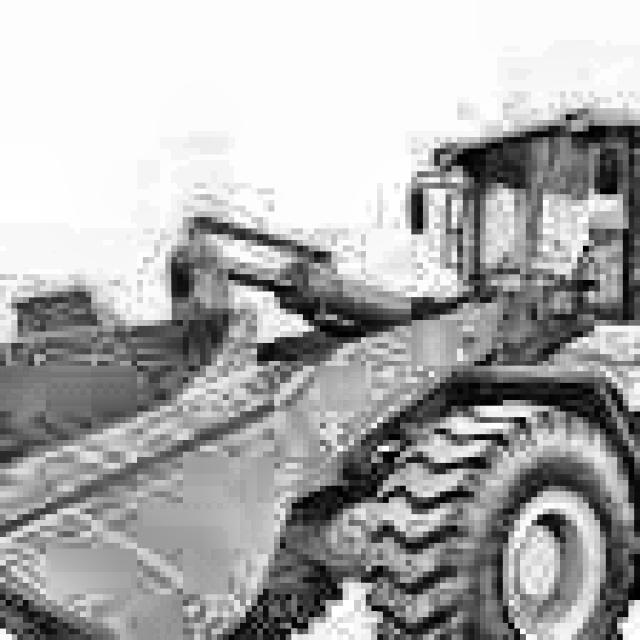buldozerpayloadergrader: (0, 91, 640, 640)
